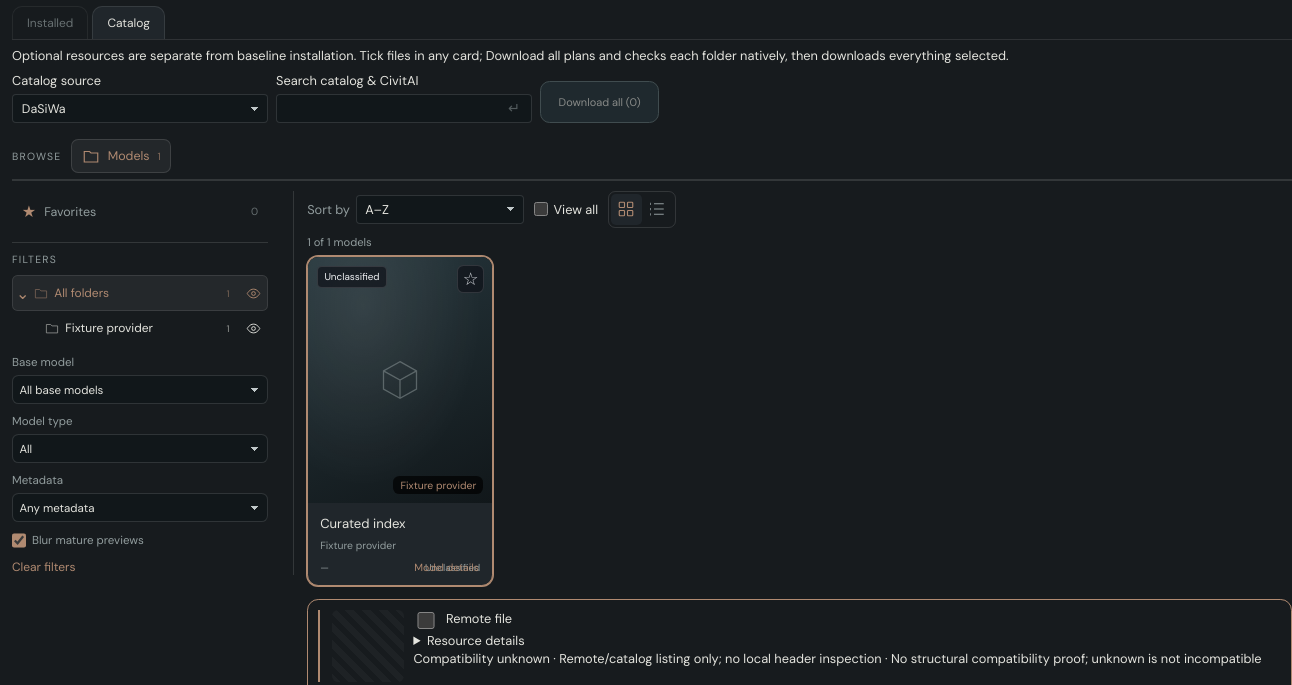
Test: targeted Library recovers background downloads after close and supports cancellation or completion
This screenshot has width=1292, height=685.
Later steps or results of the test are not shown.
Click the checkbox labelled "Remote file" at (426, 620), box [417,612,435,629]
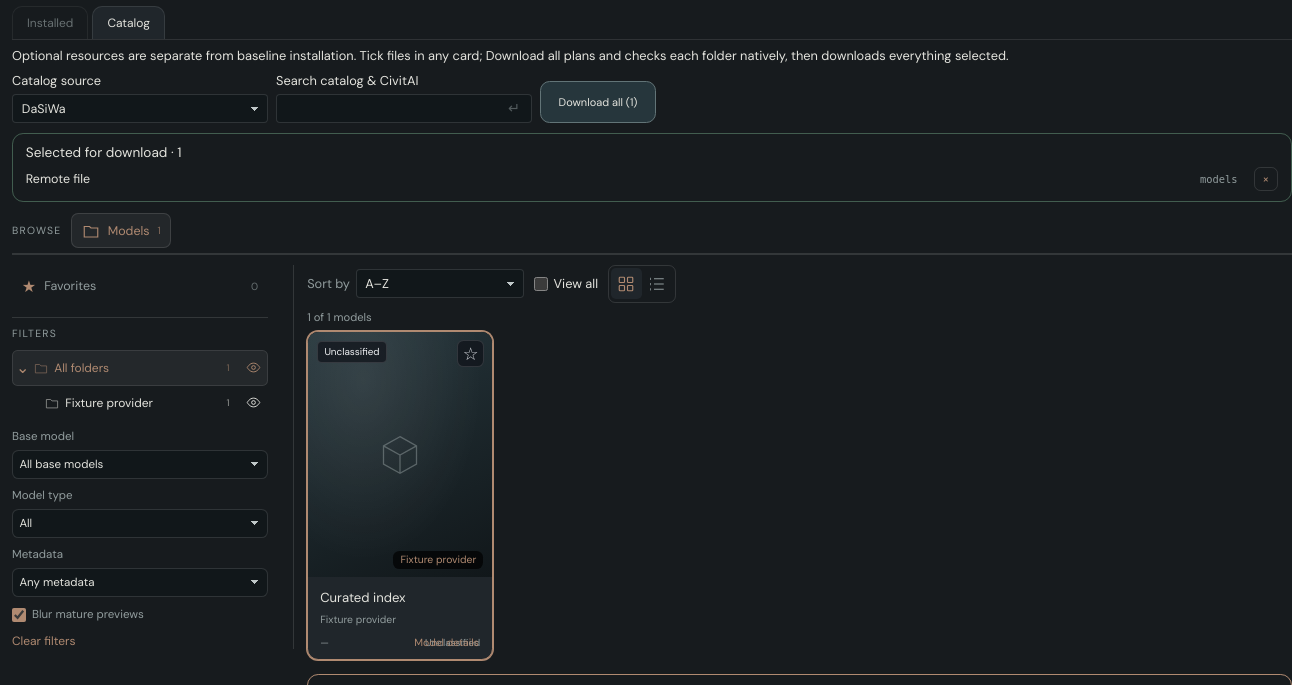
Click the button "Download all (1)" at (598, 102), box [540,81,656,123]
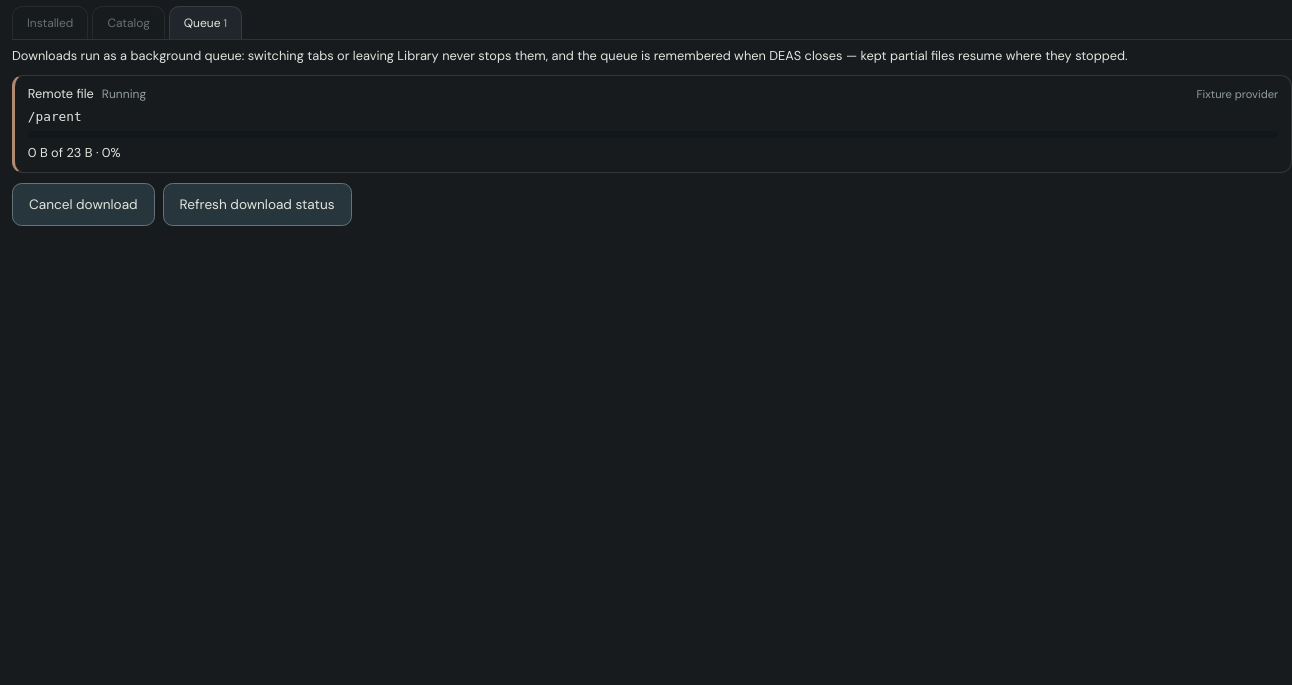
Expected: the text "Running" is shown, [102,86,146,102]
